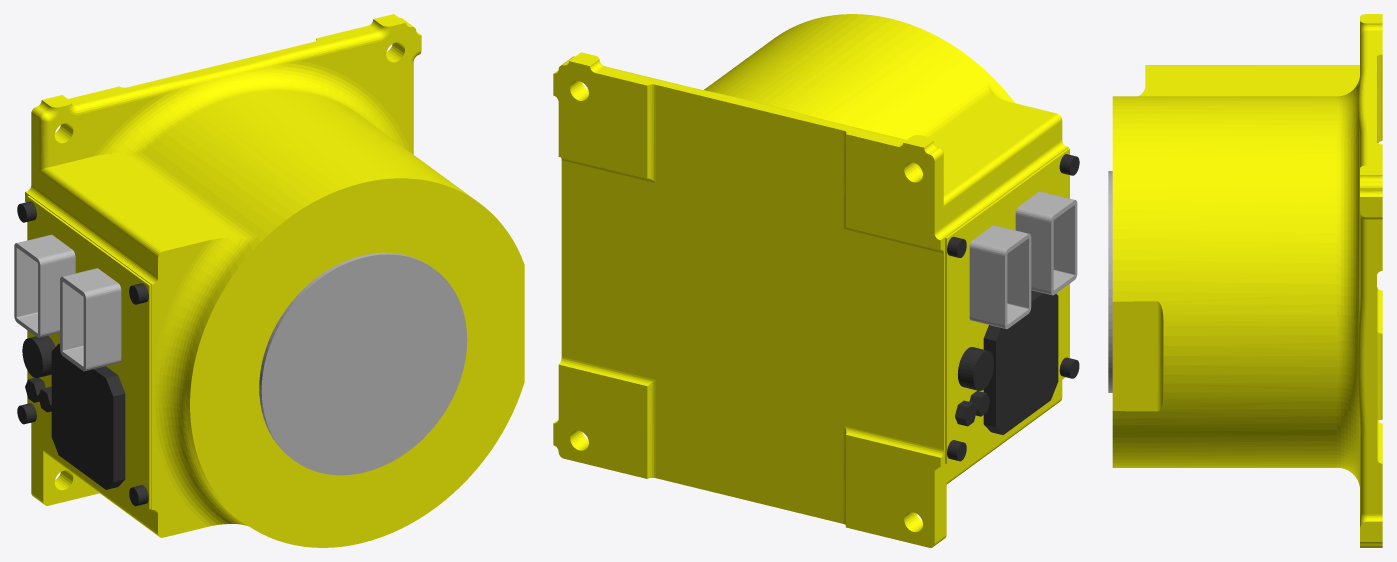
3 renders of one model, left to right at view 1: azimuth 30°, elevation 25°; view 2: azimuth 150°, elevation 25°; view 3: azimuth 270°, elevation 25°, orthographic. The views are drawn at different scales.
Parts seen in each view (by area): view 1: node; view 2: node; view 3: node.
Boxes of the visible parts, <box> form: node: <box>14,14,524,547</box>; node: <box>553,14,1079,547</box>; node: <box>1108,14,1382,547</box>.
Bounding box in the file's own units: 407 × 365 × 245.
